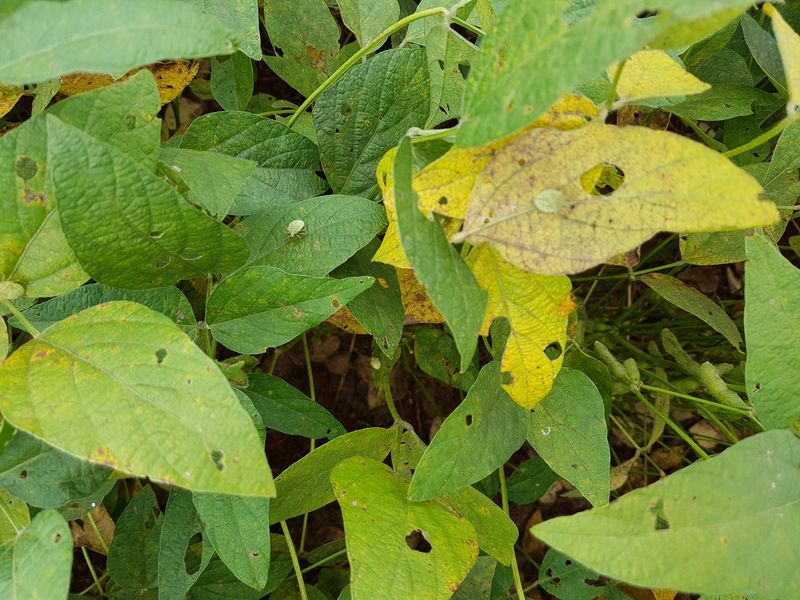Euschistus_heros_ninfa: (529, 184, 570, 219), (1, 270, 29, 305), (281, 217, 310, 244), (366, 352, 384, 372)
